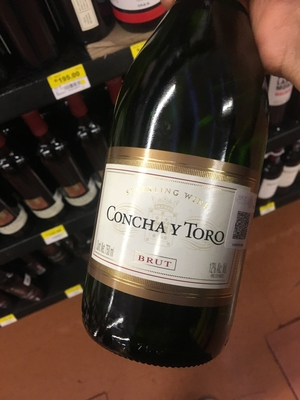brut: (82, 19, 278, 363)
